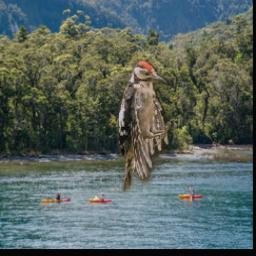Woodpecker: (117, 61, 174, 192)
